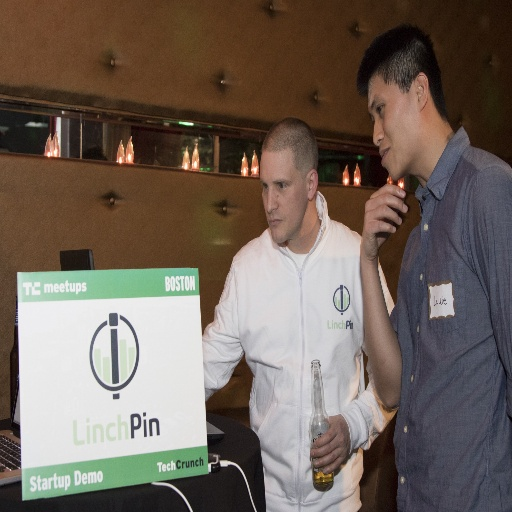hand: (358, 181, 409, 262), (311, 406, 361, 482)
